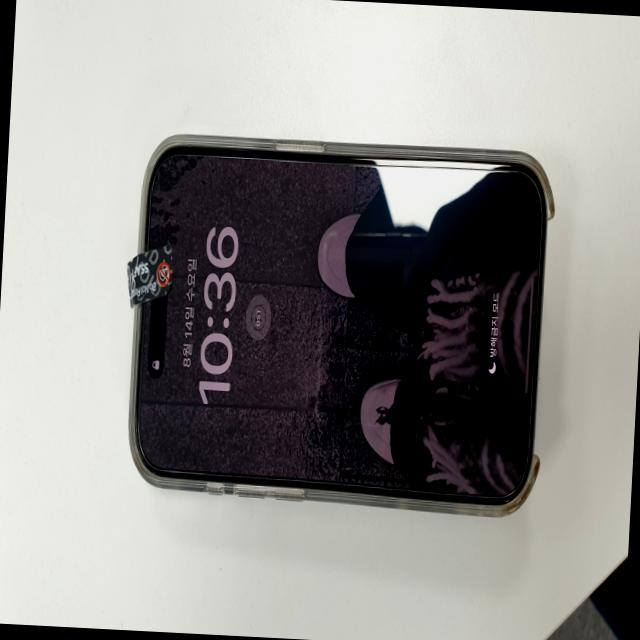phone: (124, 128, 554, 520)
removed_sticker: (126, 243, 173, 310)
